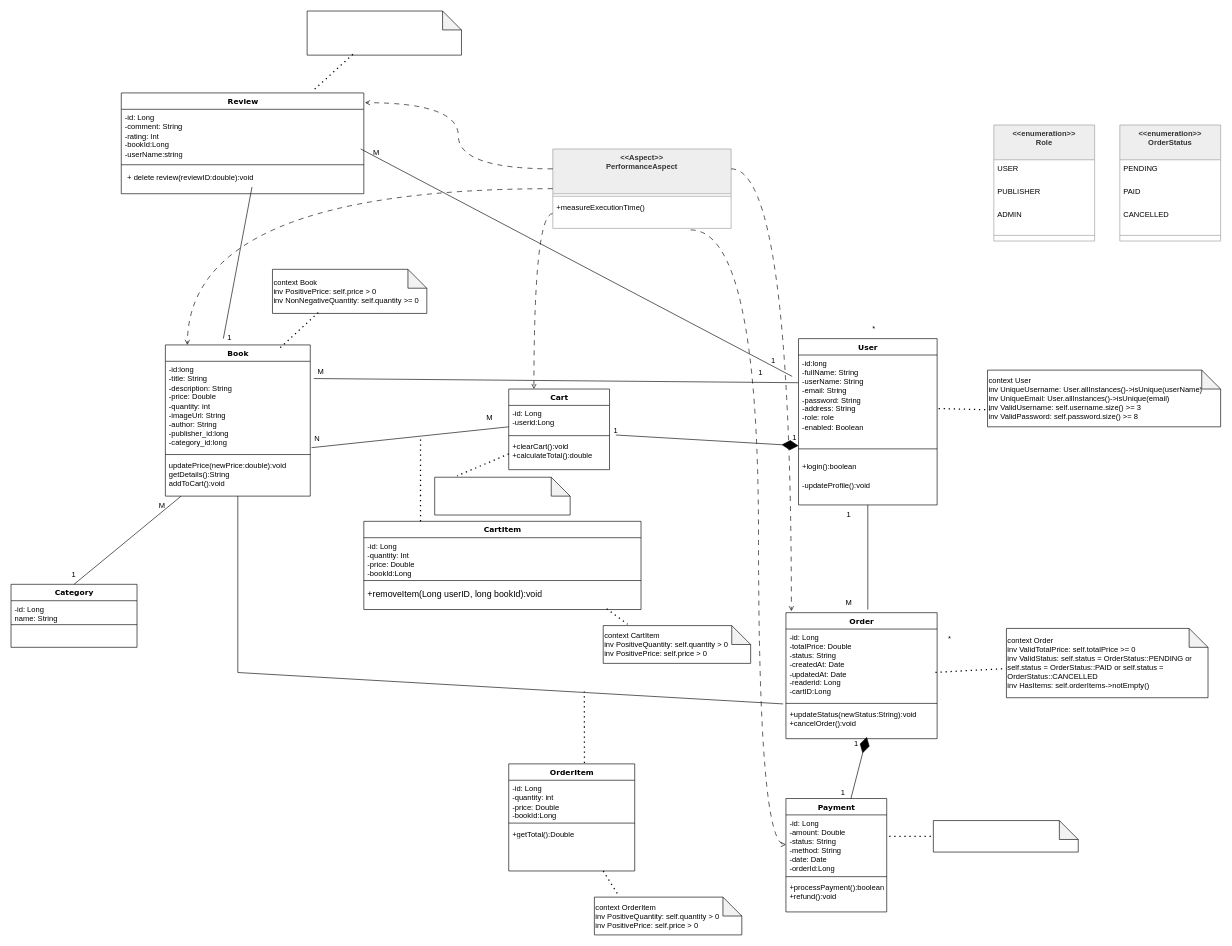
The diagram is 1232 pixels wide and 946 high, and some of its shapes have lost their labels. Here are the shapes that lost their labels. From the top down, the centre of each, then its label:
At (x=383, y=32): "context Review inv ValidRating: self.rating >= 1 and self.rating <= 5".
At (x=502, y=496): "context Cart inv OneCartPerUser: Cart.allInstances()->isUnique(userId)".
At (x=1005, y=836): "context Payment inv PositiveAmount: self.amount > 0".
